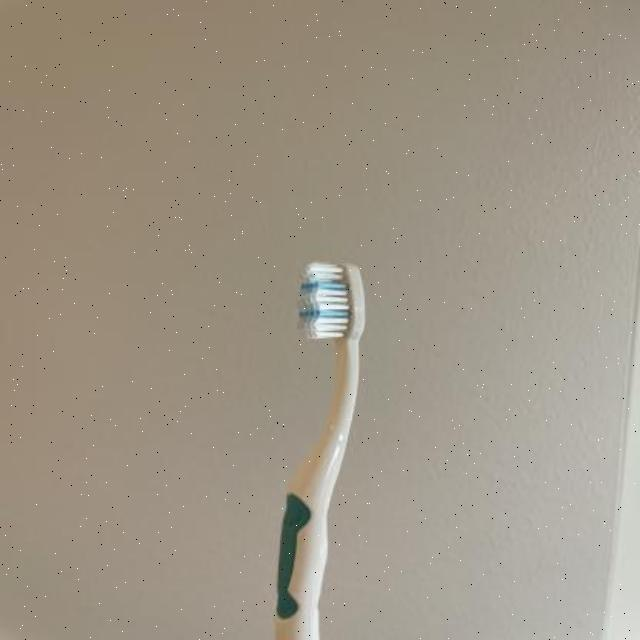toothbrush: (266, 250, 382, 640)
